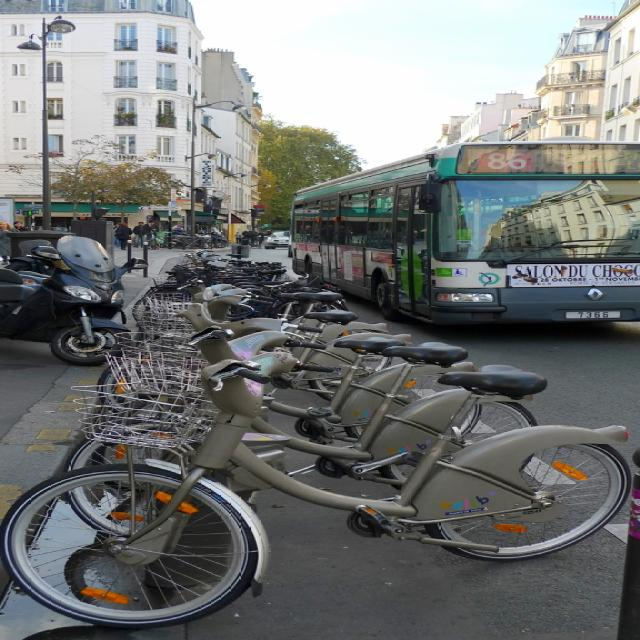Buses: (288, 136, 638, 332)
Motorbikes: (1, 238, 138, 368)
